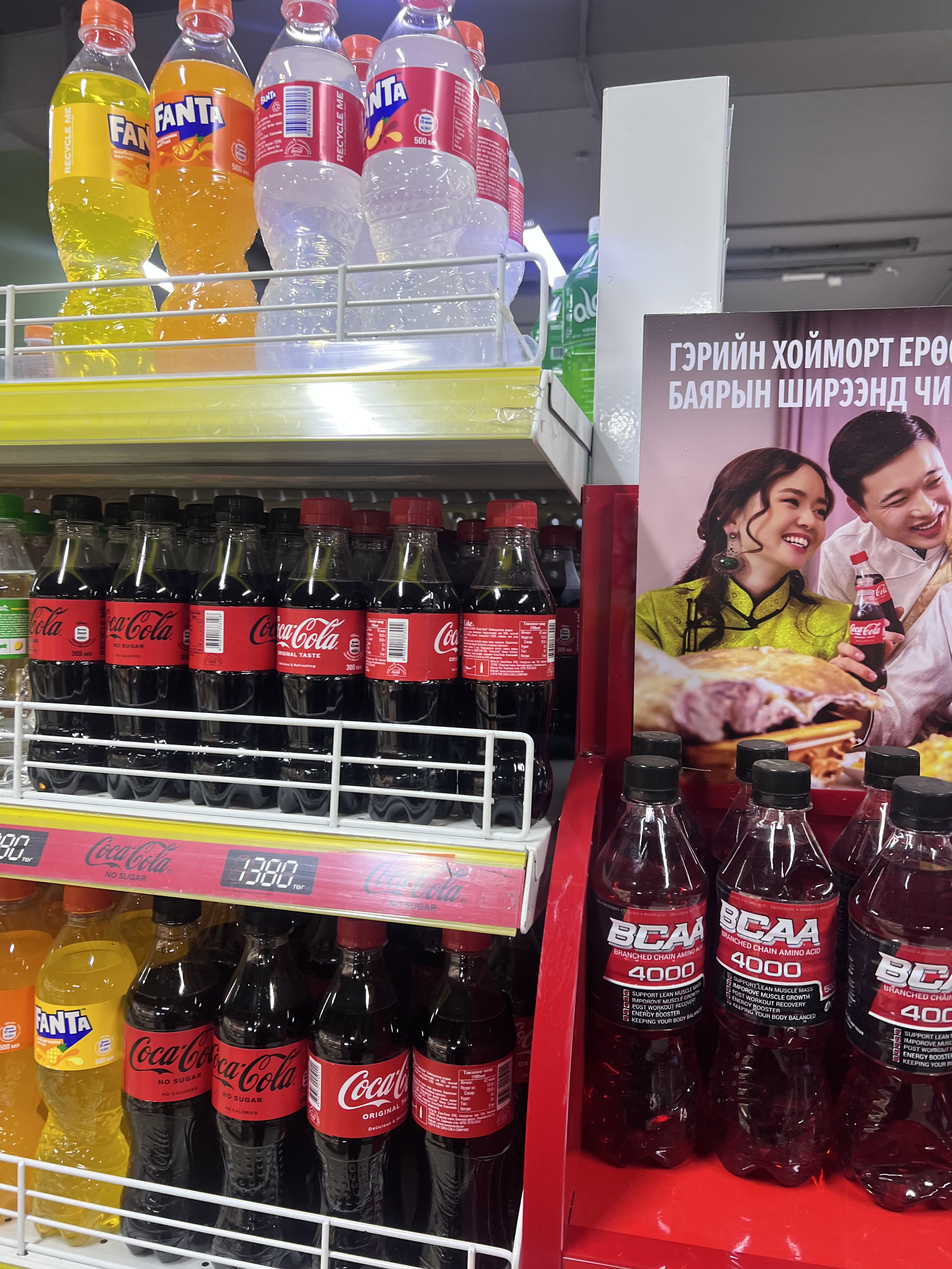coca_cola_500ml: (212, 907, 314, 1269), (413, 929, 516, 1245), (459, 500, 554, 826), (309, 917, 409, 1224), (366, 498, 459, 824), (189, 495, 283, 809), (123, 897, 221, 1194), (277, 498, 366, 721), (107, 494, 193, 711), (29, 494, 109, 706)
fanta_500ml: (366, 1, 482, 368), (258, 2, 364, 389), (48, 0, 155, 282), (34, 886, 136, 1177), (150, 0, 256, 276), (0, 878, 52, 1157)
